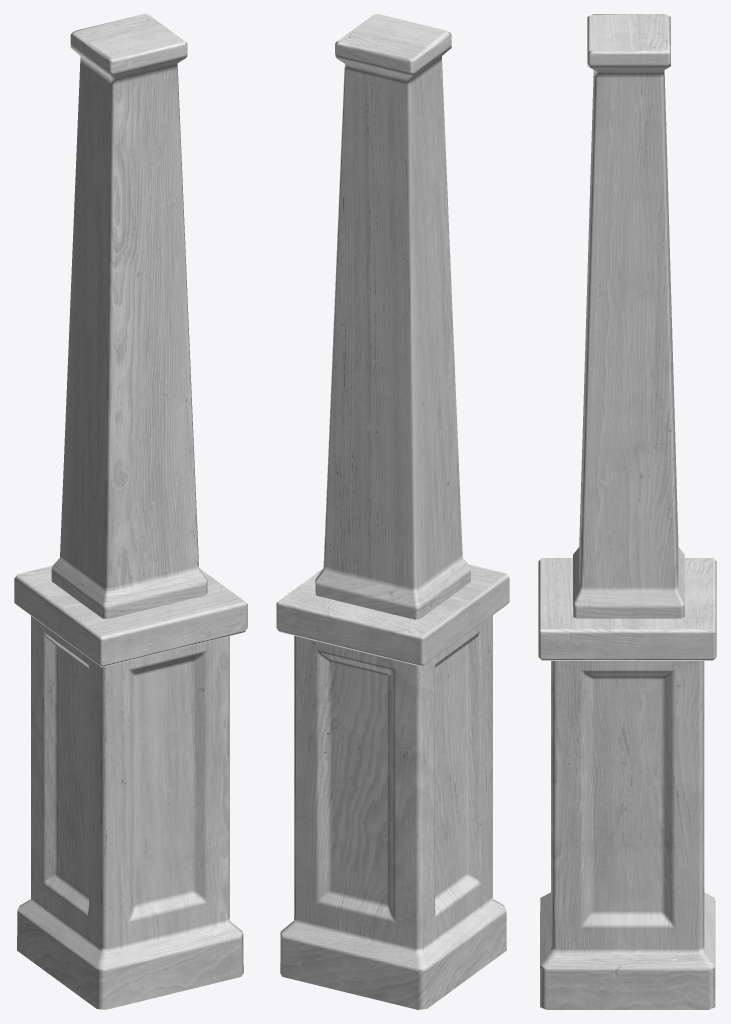
Rendered from Terrace_Pillar_C1.fbx.
3 renders of one model, left to right at view 1: azimuth 30°, elevation 25°; view 2: azimuth 150°, elevation 25°; view 3: azimuth 270°, elevation 25°, orthographic.
Visible parts, largest first — view 1: Terrace_Pillar_C1; view 2: Terrace_Pillar_C1; view 3: Terrace_Pillar_C1.
Boxes of the visible parts, bbox=[...] form: Terrace_Pillar_C1: bbox=[14, 14, 247, 1009]; Terrace_Pillar_C1: bbox=[276, 14, 509, 1009]; Terrace_Pillar_C1: bbox=[538, 14, 716, 1009].
Size of the model in its own units: 38.6 by 229 by 39.46.
